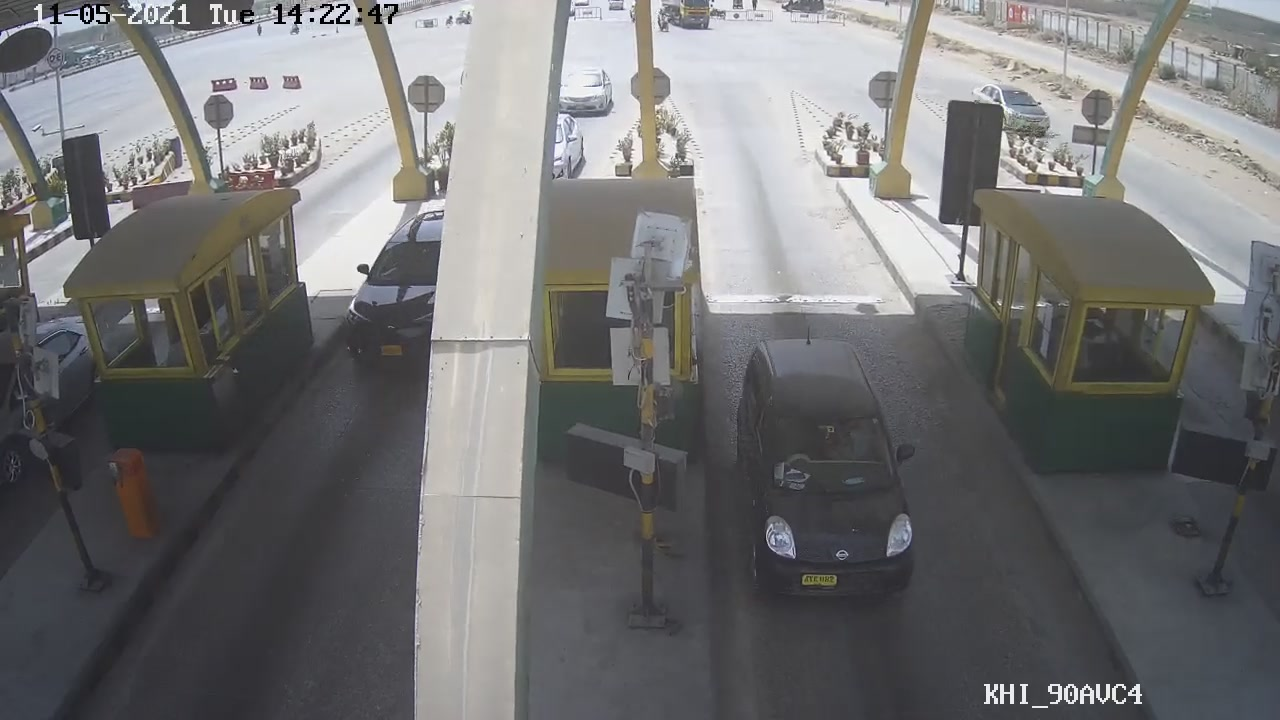F1: (731, 338, 921, 610)
